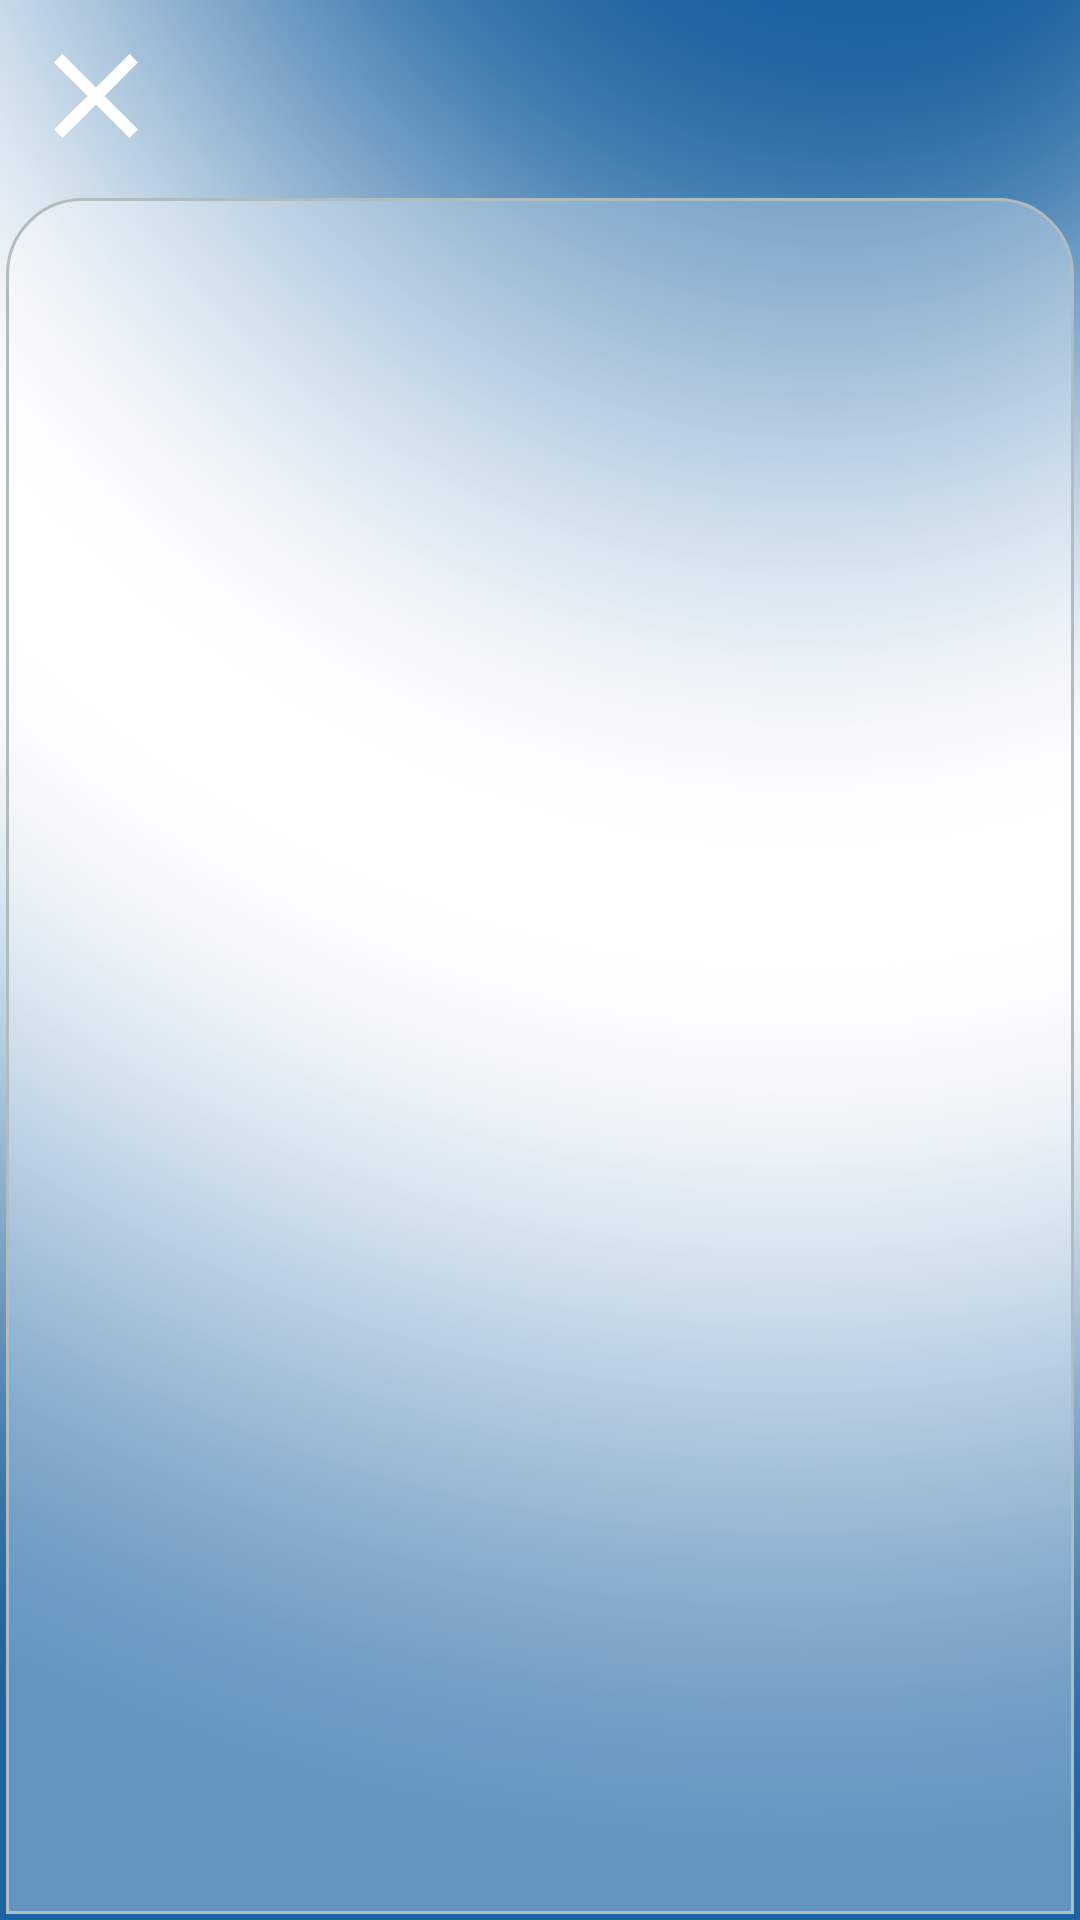

Point at icon controls on the screen. Image size 1080*1920, points as (x,y).
frame close: (96,96)
